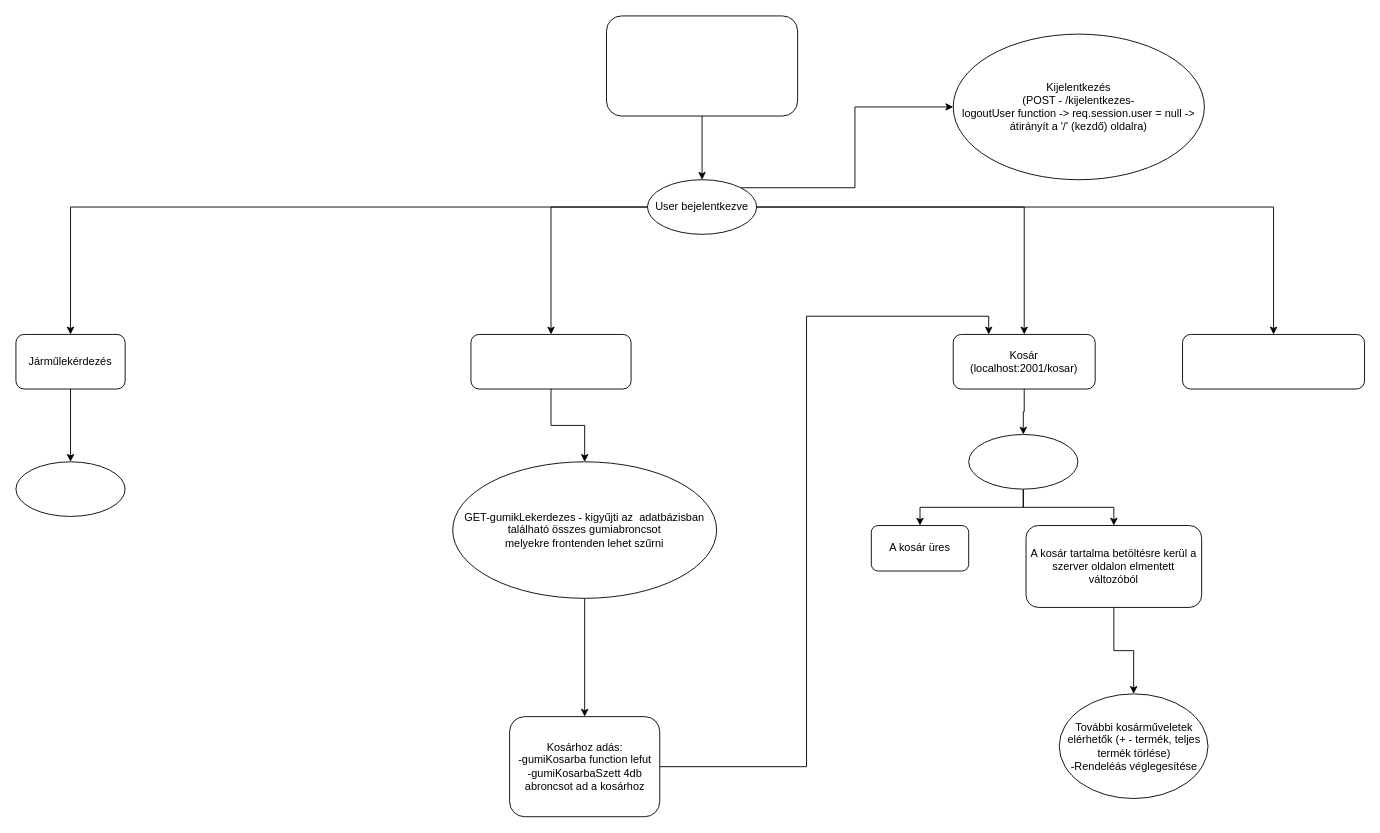
Some shapes in this 1380 by 833 pixel diagram are drawn without their labels. Here are the shapes that lost their labels. From the top down, the centre of each, then its label:
At (702,65): "Főoldal (localhost:2001/fooldal)".
At (550,361): "Termékek (localhost:2001/termekek)".
At (1273,361): "Gumiabroncs magasság kalkulátor (localhost:2001/kalkulator)".
At (1023,461): "GET - gretKosar function lefut".
